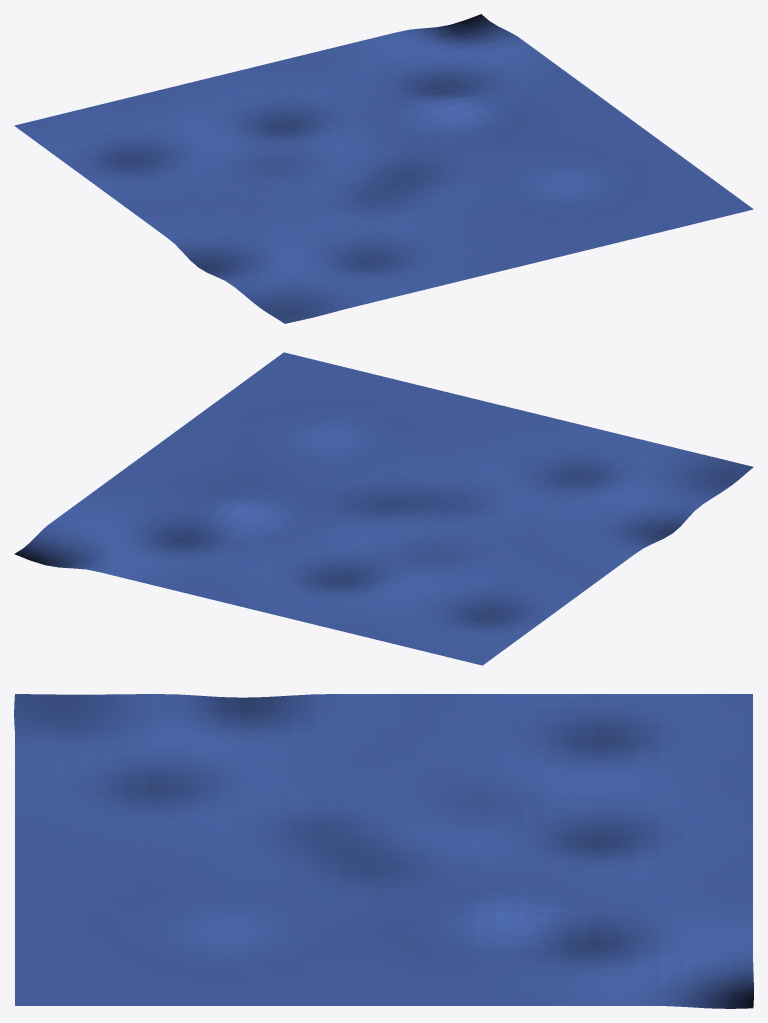
File: Water.fbx
3 views of the same model, one above another, from view 1: azimuth 30°, elevation 25°; view 2: azimuth 150°, elevation 25°; view 3: azimuth 270°, elevation 25° (orthographic). The views are drawn at different scales.
Visible parts, largest first — view 1: Water; view 2: Water; view 3: Water.
Boxes of the visible parts, x1,y1,x2,y2 form: Water: (14,14,753,323); Water: (14,352,753,665); Water: (14,694,753,1008).
Size of the model in its own units: 28.84 by 28.74 by 0.7216.
